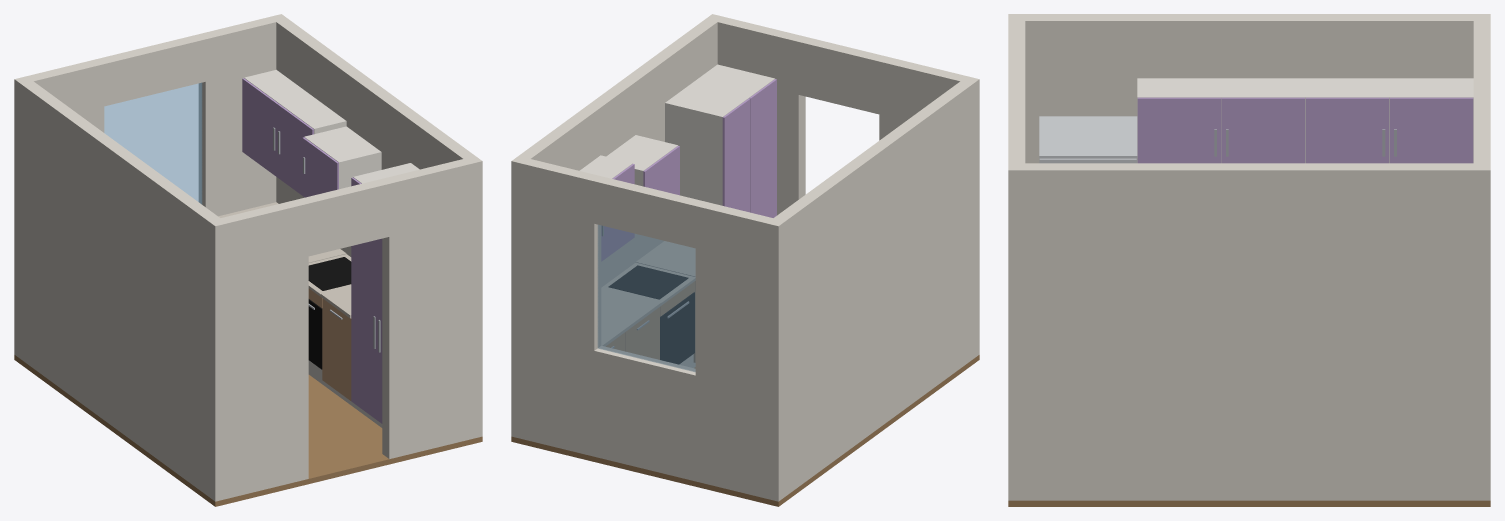
Rendered from galley-kitchen.glb.
The picture shows the model from 3 angles, left to right: view 1: azimuth 30°, elevation 25°; view 2: azimuth 150°, elevation 25°; view 3: azimuth 270°, elevation 25°; orthographic projection. The views are drawn at different scales.
Parts seen in each view (by area): view 1: wall_7, wall_0, wall_2, wall_6, wall_8, floor, glass_0, uppers_e, wall_3, wall_5, wall_1, pantry_4 (+8 smaller); view 2: wall_7, wall_3, wall_6, glass_0, wall_8, wall_4, wall_2, pantry_1, wall_0, wall_5, wall_1, pantry_2 (+10 smaller); view 3: wall_8, wall_7, uppers_w_0, wall_2, wall_6, uppers_w_5, uppers_w_7, uppers_w_3, uppers_w_1, fridge, floor, wall_5 (+3 smaller).
Boxes of the visible parts, x1,y1,x2,y2 form: wall_7: (21,81,219,495); wall_0: (208,198,308,501); wall_2: (382,156,482,458); wall_6: (199,14,287,216); wall_8: (276,19,474,256); floor: (14,355,482,506); glass_0: (104,82,202,204); uppers_e: (242,69,346,197); wall_3: (14,59,104,359); wall_5: (98,34,205,106); wall_1: (302,178,389,256); pantry_4: (351,177,377,420); wall_7: (774,81,972,495); wall_3: (695,201,785,501); wall_6: (511,156,600,456); glass_0: (597,224,695,371); wall_8: (519,19,717,286); wall_4: (594,346,695,481); wall_2: (706,14,805,215); pantry_1: (665,64,774,205); wall_0: (879,56,979,359); wall_5: (594,176,701,248); wall_1: (798,36,885,114); pantry_2: (749,79,776,217); wall_8: (1025,163,1473,500); wall_7: (1025,14,1473,163); uppers_w_0: (1137,78,1473,163); wall_2: (1008,116,1025,500); wall_6: (1473,121,1490,500); uppers_w_5: (1221,97,1305,163); uppers_w_7: (1137,97,1221,163); uppers_w_3: (1306,97,1389,163); uppers_w_1: (1390,97,1473,163); fridge: (1039,116,1137,163); floor: (1008,500,1490,506); wall_5: (1473,62,1490,121).
Bounding box in the file's own units: 2.64 × 2.65 × 3.44.
